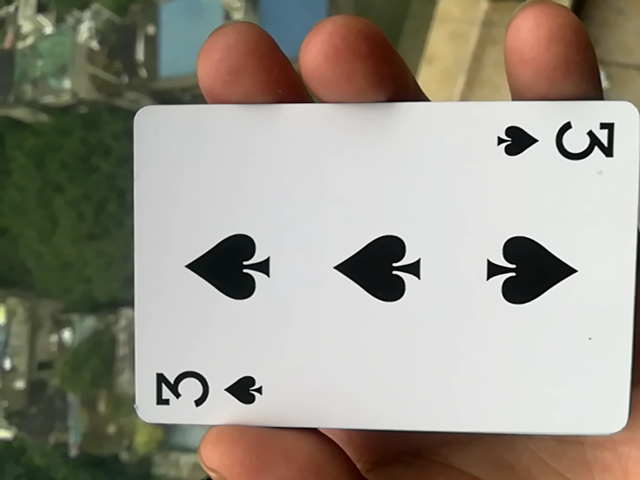ht 3: (118, 109, 635, 456)
